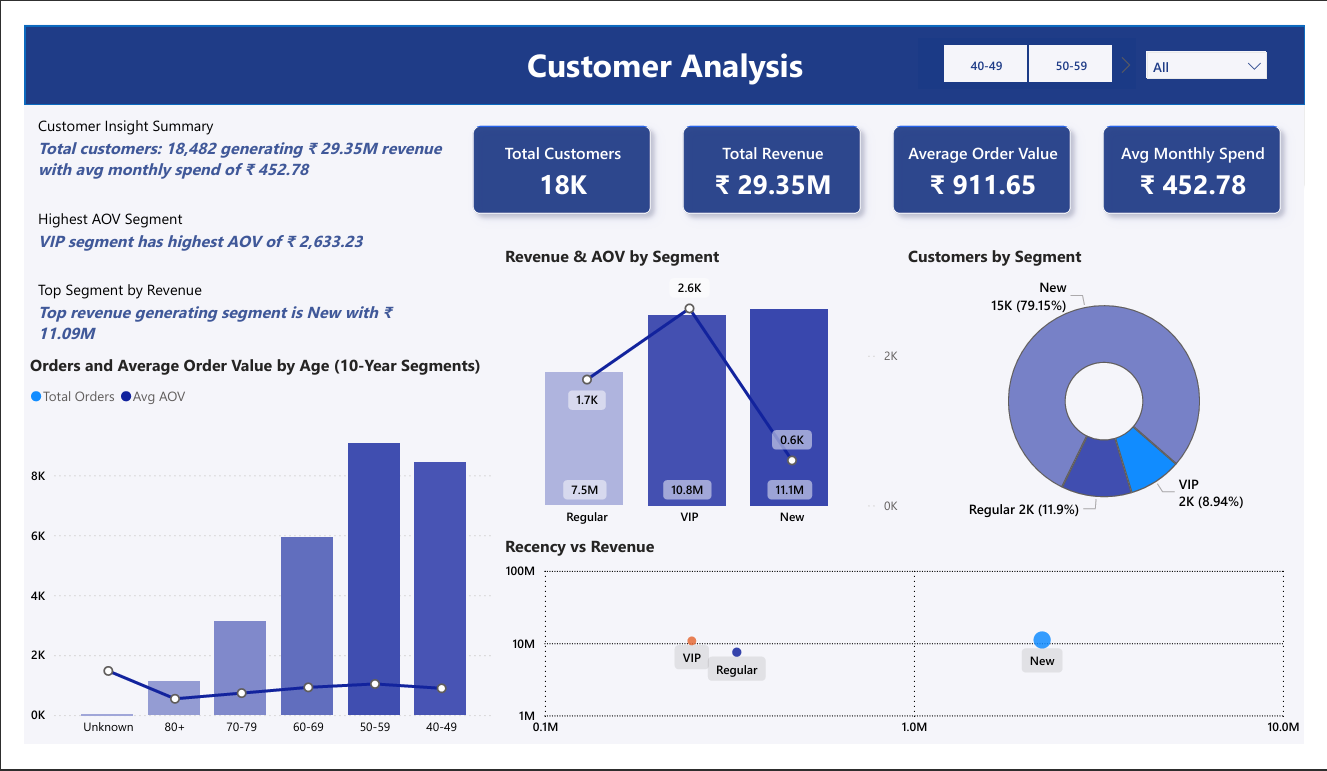

The dashboard page shown, as its layout file describes it:
{"tool":"powerbi","page":{"name":"Customer Analysis","canvas":[1280,720],"ordinal":1},"visuals":[{"type":"shape","box":[0,1.2,1280,78.4],"z":0},{"type":"lineClusteredColumnComboChart","title":"Revenue & AOV by Segment","fields":{"Category":["gold report_customers.customer_segment"],"Y":["gold report_customers.Total Revenue"],"Y2":["gold report_customers.Avg AOV"]},"box":[474.8,219.6,403.4,290.9],"z":1000},{"type":"textbox","box":[475.3,12.1,329.4,57.9],"z":2000},{"type":"donutChart","title":"Customers by Segment","fields":{"Category":["gold report_customers.customer_segment"],"Y":["gold report_customers.Total Customers"]},"box":[878.3,219.6,401.7,290.8],"z":3000},{"type":"scatterChart","title":"Recency vs Revenue","fields":{"X":["Sum(gold report_customers.recency_months)"],"Y":["Sum(gold report_customers.total_sales)"],"Size":["Sum(gold report_customers.total_orders)"],"Series":["gold report_customers.customer_segment"]},"box":[474.8,510.5,805.5,209.9],"z":4000},{"type":"lineClusteredColumnComboChart","title":"Orders and Average Order Value by Age (10-Year Segments)","fields":{"Y":["gold report_customers.Total Orders"],"Y2":["gold report_customers.Avg AOV"],"Category":["gold report_customers.age_segments"]},"box":[0,329.3,474.8,391.1],"z":5000},{"type":"slicer","fields":{"Values":["gold report_customers.customer_segment"]},"box":[1112.3,16.9,139.9,48.3],"z":6000},{"type":"slicer","fields":{"Values":["gold report_customers.age_segments"]},"box":[894,14.5,218.4,50.7],"z":7000},{"type":"cardVisual","fields":{"Data":["gold report_customers.Customer Insight Summary","gold report_customers.Highest AOV Segment","gold report_customers.Top Segment by Revenue"]},"box":[0,79.6,426.8,249.7],"z":8000},{"type":"cardVisual","fields":{"Data":["gold report_customers.Total Customers","gold report_customers.Total Revenue","gold report_customers.Avg AOV","gold report_customers.Avg Monthly Spend"]},"box":[427.1,79.6,853,130.3],"z":9000}]}

Visuals, with their boxes on the page's 1280x720 design canvas (x1, y1, x2, y2). These are canvas units, not pixel positions in the 1327x771 screenshot, which may show the page scaled, cropped or inside an application window:
shape: x1=0, y1=1, x2=1280, y2=80
"Revenue & AOV by Segment" lineClusteredColumnComboChart: x1=475, y1=220, x2=878, y2=510
textbox: x1=475, y1=12, x2=805, y2=70
"Customers by Segment" donutChart: x1=878, y1=220, x2=1280, y2=510
"Recency vs Revenue" scatterChart: x1=475, y1=510, x2=1280, y2=720
"Orders and Average Order Value by Age (10-Year Segments)" lineClusteredColumnComboChart: x1=0, y1=329, x2=475, y2=720
slicer - gold report_customers.customer_segment: x1=1112, y1=17, x2=1252, y2=65
slicer - gold report_customers.age_segments: x1=894, y1=14, x2=1112, y2=65
cardVisual - gold report_customers.Customer Insight Summary x gold report_customers.Highest AOV Segment: x1=0, y1=80, x2=427, y2=329
cardVisual - gold report_customers.Total Customers x gold report_customers.Total Revenue: x1=427, y1=80, x2=1280, y2=210
